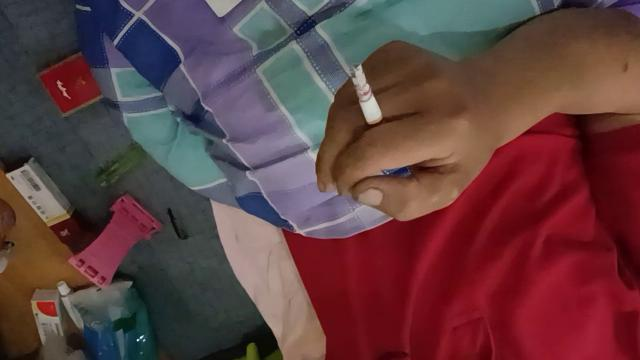Smoking: (352, 63, 390, 140)
